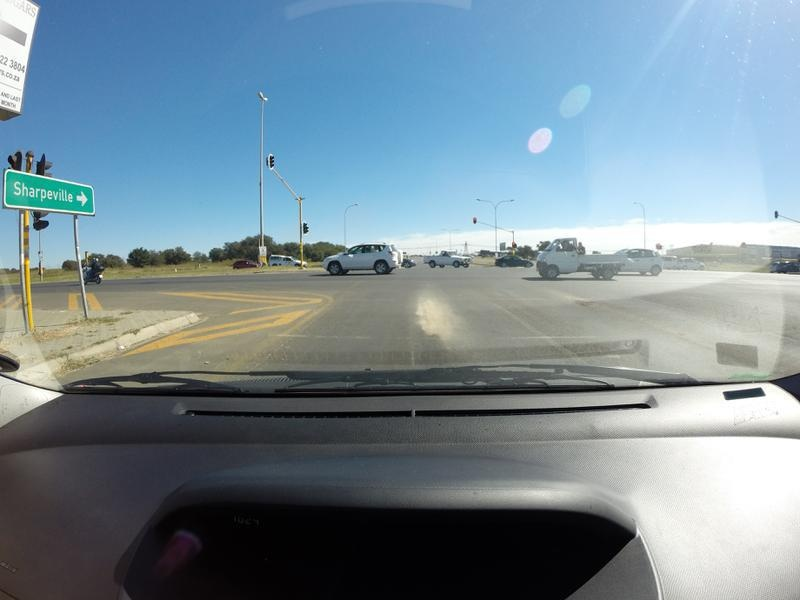pothole: (576, 296, 598, 303)
